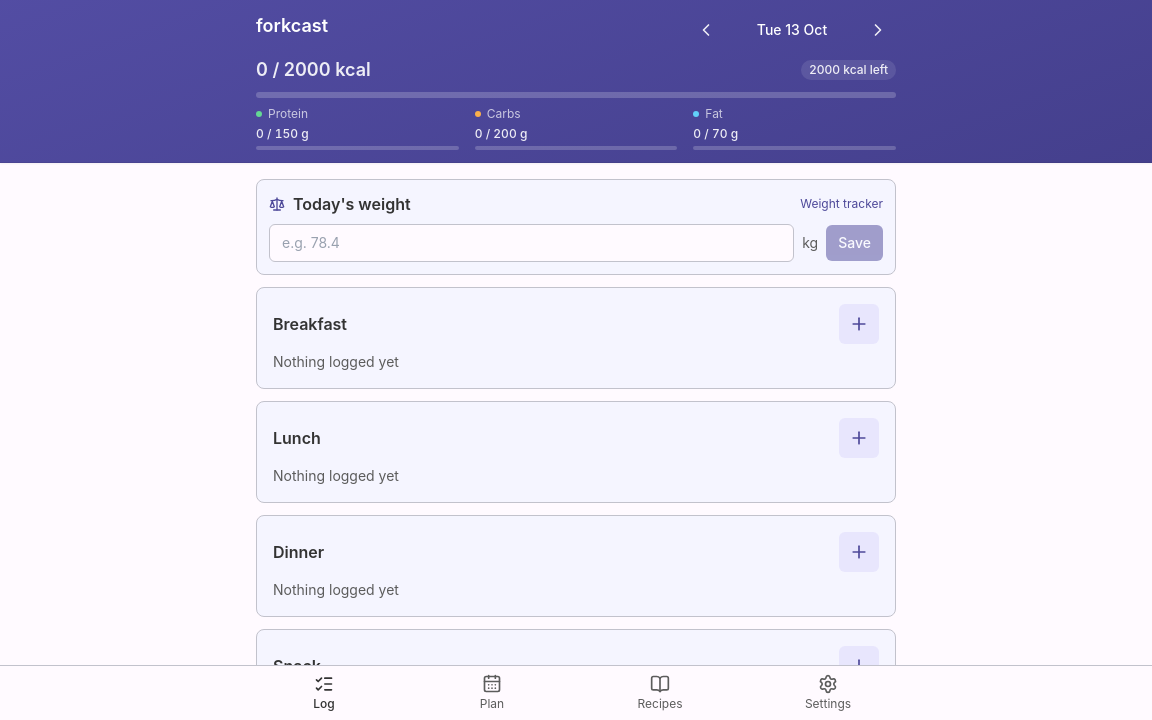
Test: App in English › shows no German UI copy on settings
This screenshot has width=1152, height=720.
Click the button "Settings" at (828, 693), box [744,666,912,719]
(page scrolled)
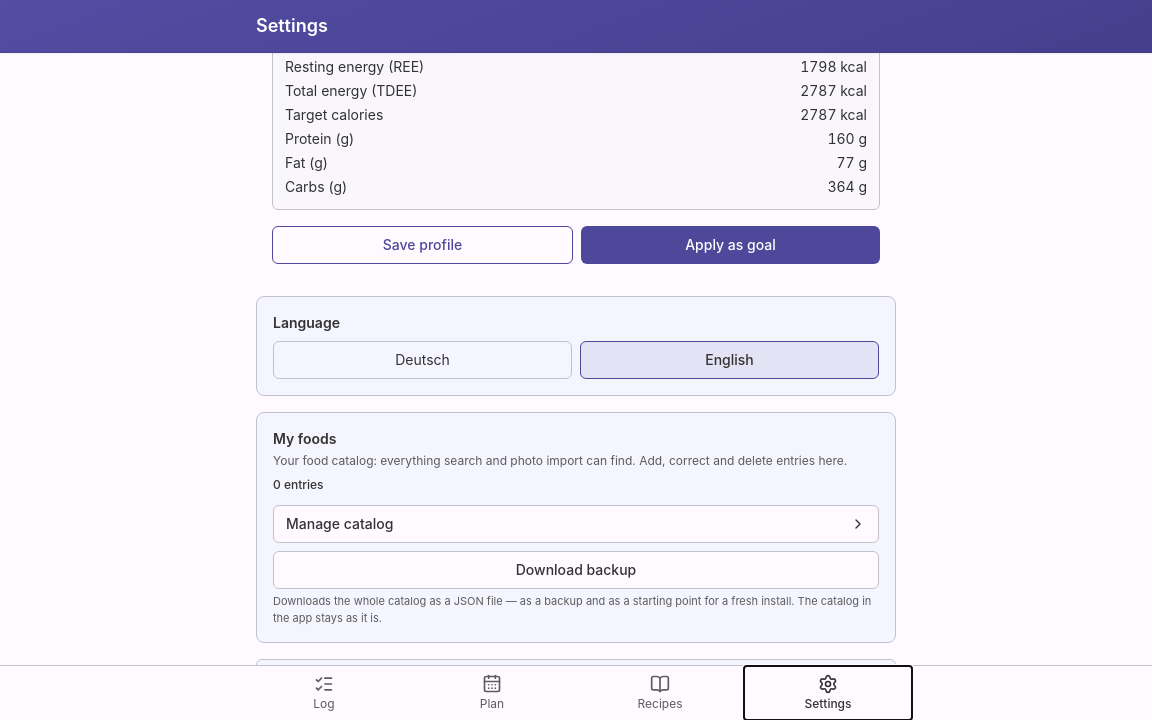
Result: the element named "Language" is shown at [273,341,879,379]
Result: the radio button labelled "English" is checked at [580,341,879,379]
